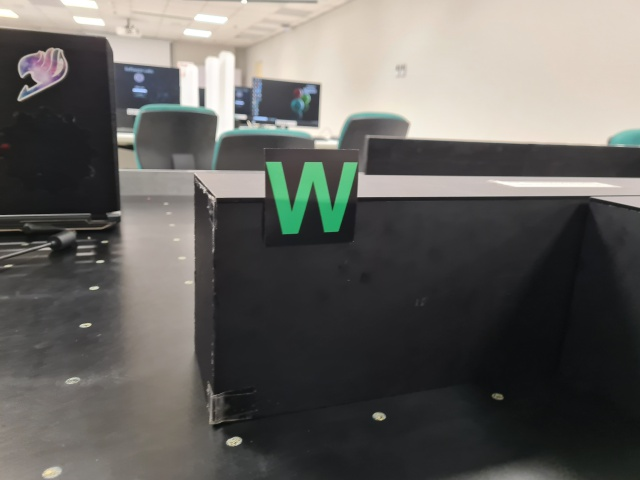alphabet_w: (263, 147, 360, 246)
